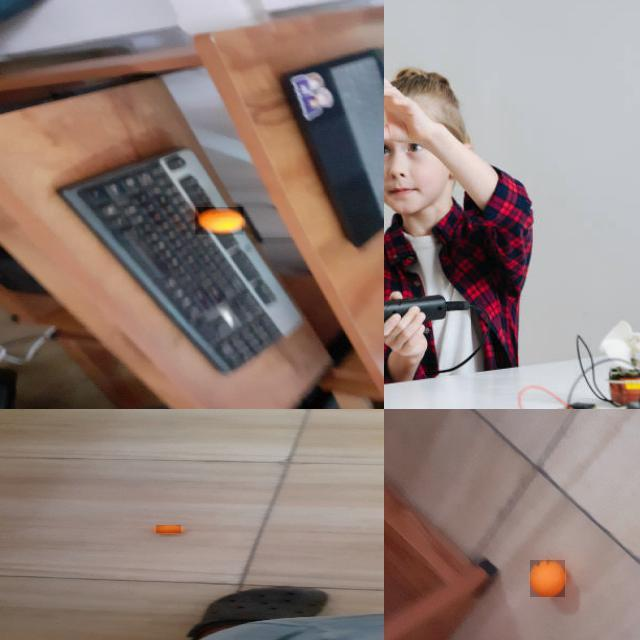ping-pong-ball: (530, 560, 566, 598), (196, 207, 244, 235), (156, 525, 182, 533)
